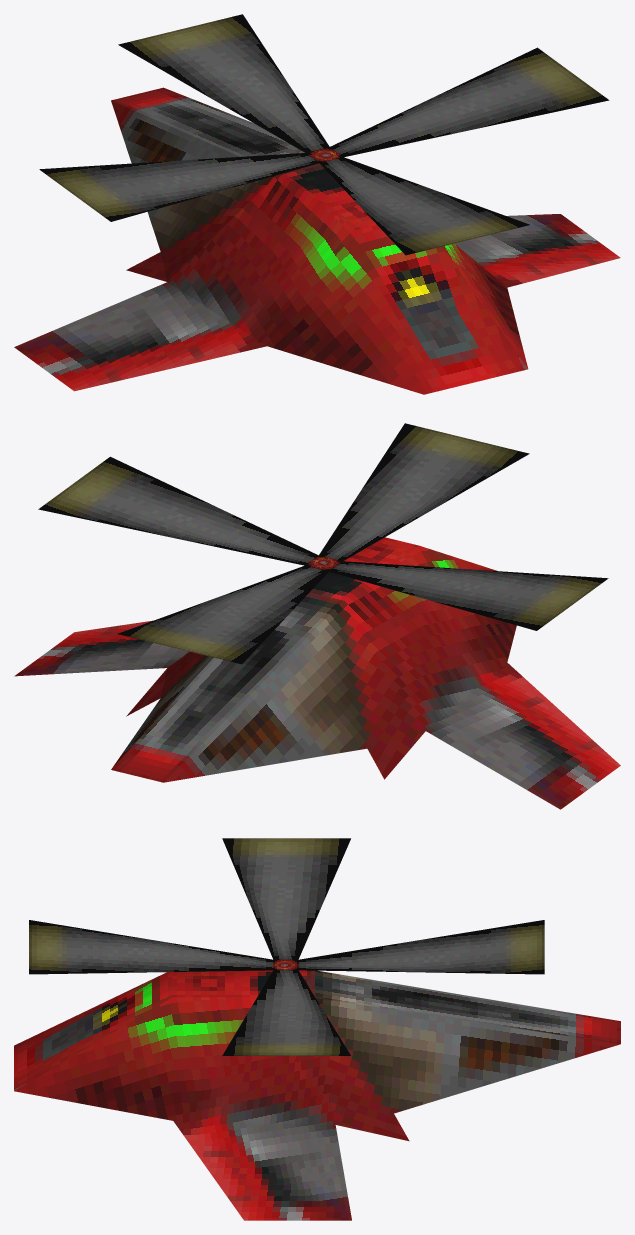
3 views of the same model, one above another, from view 1: azimuth 30°, elevation 25°; view 2: azimuth 150°, elevation 25°; view 3: azimuth 270°, elevation 25° (orthographic). The views are drawn at different scales.
Visible parts, largest first — view 1: Mp_obj_022; view 2: Mp_obj_022; view 3: Mp_obj_022.
Boxes of the visible parts, <box> form: Mp_obj_022: <box>14,14,620,394</box>; Mp_obj_022: <box>14,423,620,809</box>; Mp_obj_022: <box>14,838,620,1220</box>.
Size of the model in its own units: 1.4 by 0.4219 by 1.5.
Materials: 1 (1 with a texture image).
